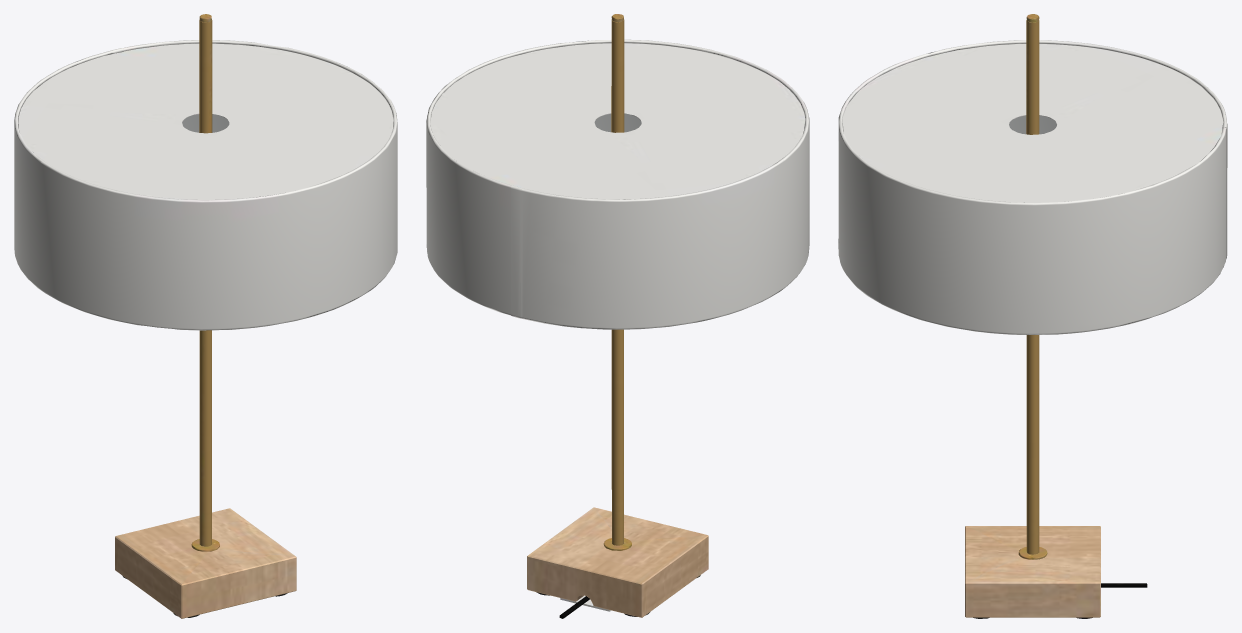
The model's file is 27 - STOCKHOLM 2025 Table lamp - white textilebrass-plated 65 cm.glb.
3 renders of one model, left to right at view 1: azimuth 30°, elevation 25°; view 2: azimuth 150°, elevation 25°; view 3: azimuth 270°, elevation 25°, orthographic.
Parts seen in each view (by area): view 1: ASY_ART_90585926_S01_NV01; view 2: ASY_ART_90585926_S01_NV01; view 3: ASY_ART_90585926_S01_NV01.
Part boxes in pixels (left/top/right/bottom): ASY_ART_90585926_S01_NV01: left=14, top=14, right=397, bottom=618; ASY_ART_90585926_S01_NV01: left=426, top=14, right=809, bottom=618; ASY_ART_90585926_S01_NV01: left=838, top=14, right=1227, bottom=618.
Size of the model in its own units: 0.4015 by 0.6536 by 0.401.
1 material, 1 textured.
